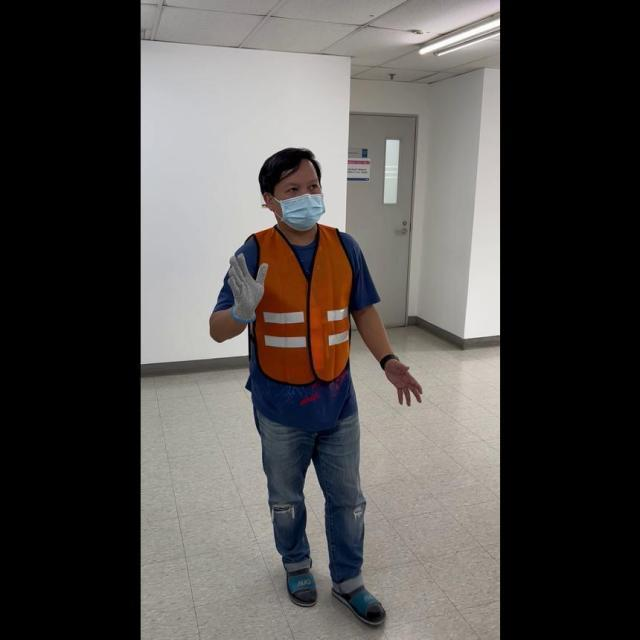bare_hand: (380, 359, 422, 407)
gloved_hand: (223, 248, 269, 321)
